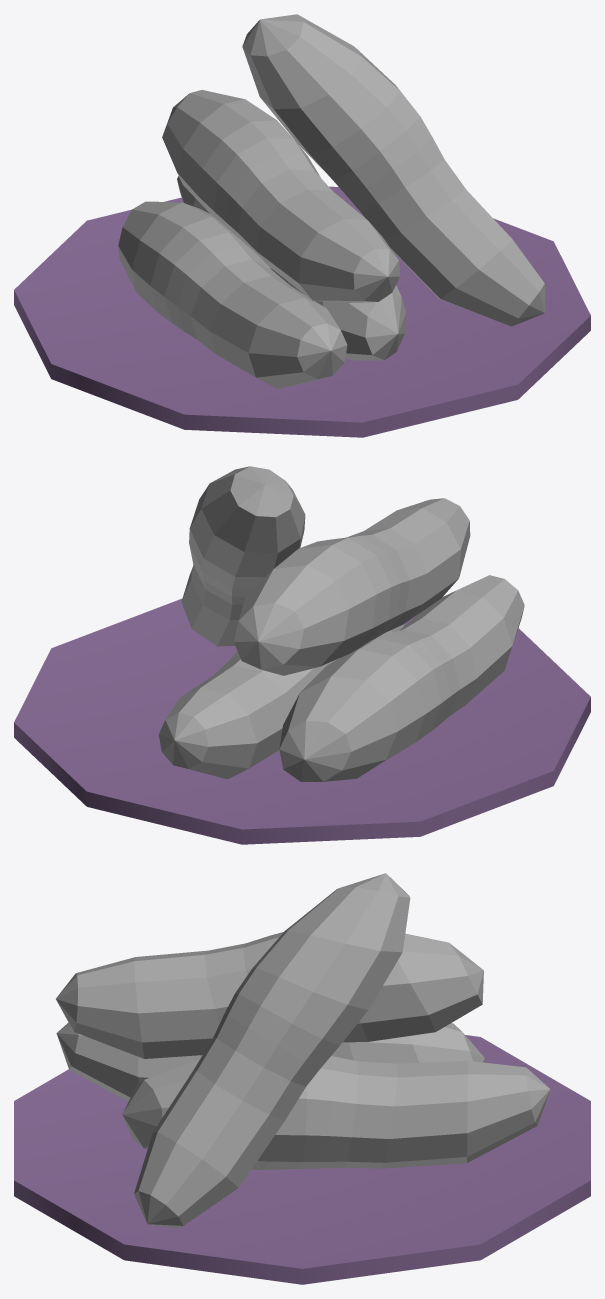
File: Plato_Ocas.fbx
The picture shows the model from 3 angles, top to bottom: view 1: azimuth 30°, elevation 25°; view 2: azimuth 150°, elevation 25°; view 3: azimuth 270°, elevation 25°; orthographic projection. The views are drawn at different scales.
Visible parts, largest first — view 1: Plato_Ocas; view 2: Plato_Ocas; view 3: Plato_Ocas.
Boxes of the visible parts, bbox=[...] form: Plato_Ocas: bbox=[14, 14, 590, 437]; Plato_Ocas: bbox=[14, 466, 590, 844]; Plato_Ocas: bbox=[14, 873, 590, 1284].
Size of the model in its own units: 2.27 by 1.33 by 2.15.
